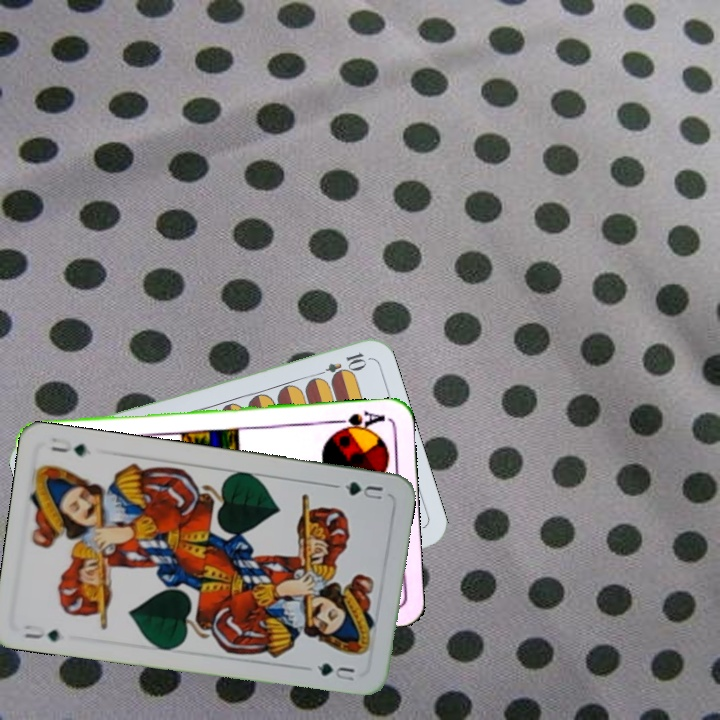E10: (311, 348, 369, 381)
GU: (341, 477, 386, 504), (20, 623, 63, 644)
SA: (328, 406, 388, 435)
